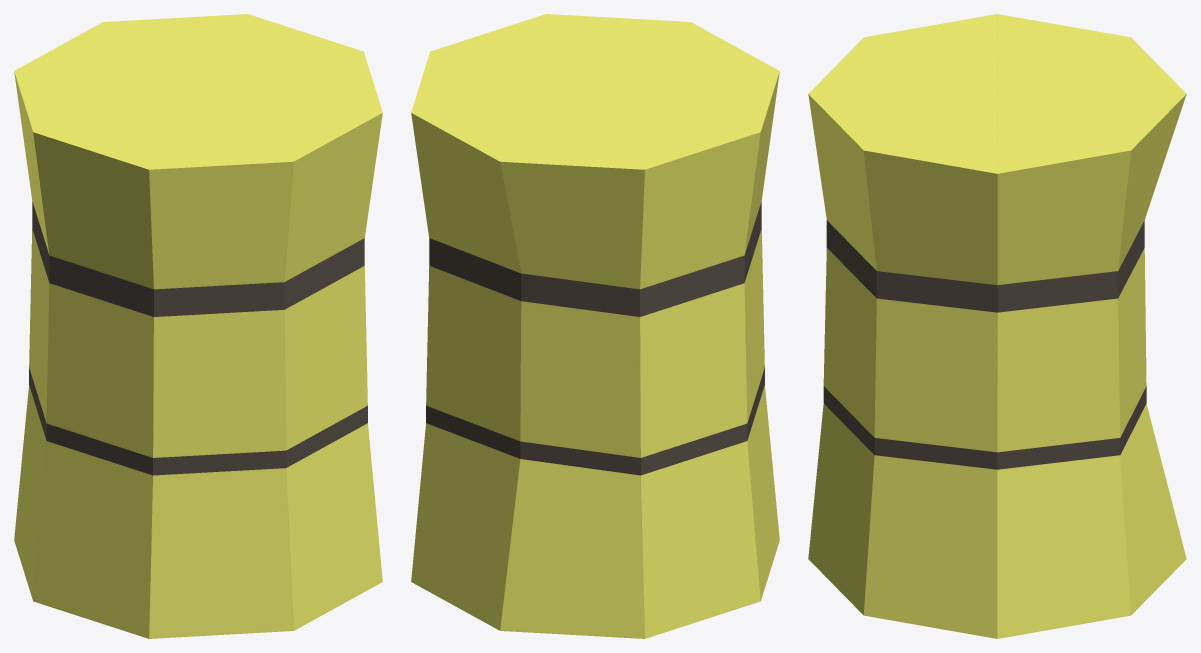
Rendered from hay_bale_free.glb.
3 views of the same model, side by side, from view 1: azimuth 30°, elevation 25°; view 2: azimuth 150°, elevation 25°; view 3: azimuth 270°, elevation 25° (orthographic).
Parts seen in each view (by area): view 1: Cube; view 2: Cube; view 3: Cube.
Boxes of the visible parts, box(x1,y1,x2,y2) form: Cube: box(14, 14, 382, 638); Cube: box(411, 14, 779, 638); Cube: box(808, 14, 1186, 638).
Size of the model in its own units: 311 by 422 by 311.
Materials: 1 (1 with a texture image).
